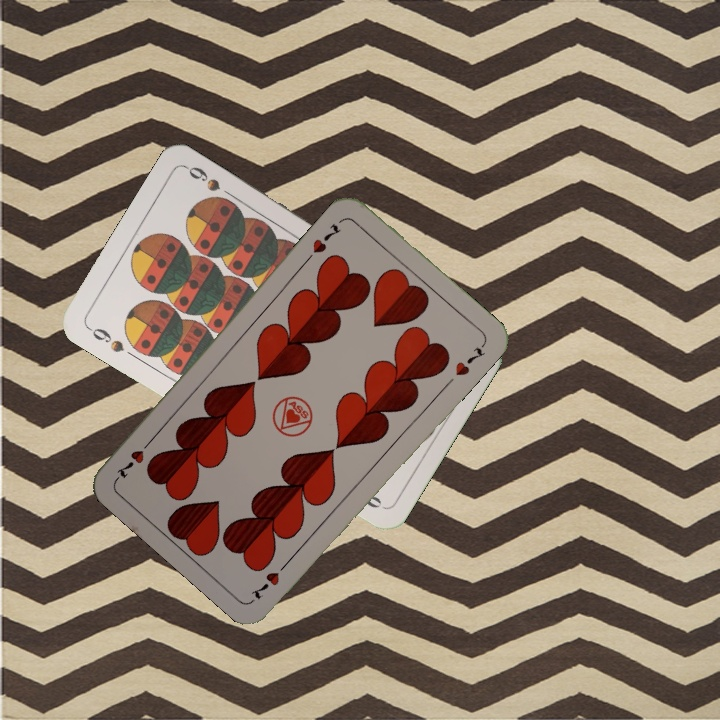H7: (246, 555, 293, 602), (308, 220, 344, 256)
S9: (83, 322, 127, 355)
